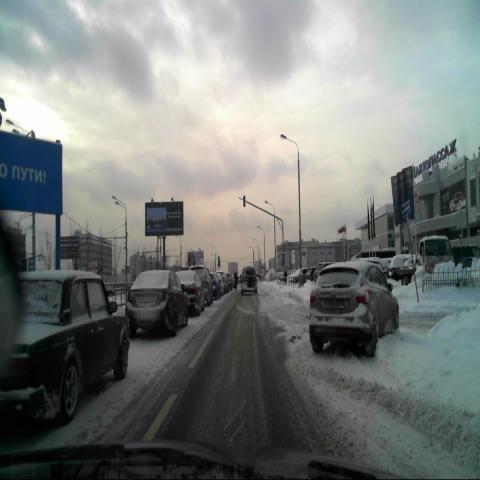5_16: (28, 258, 36, 278)
